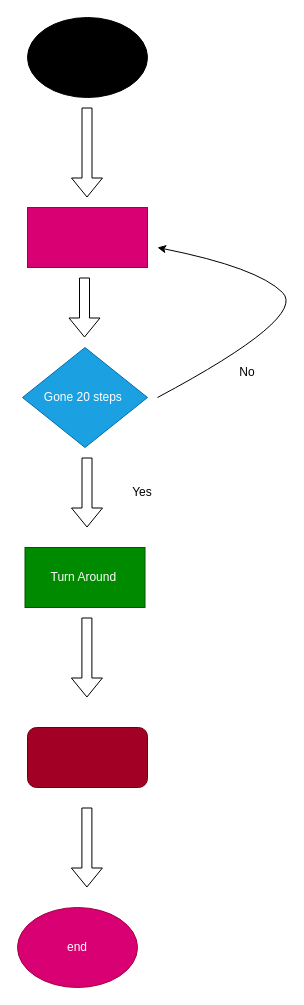
Some shapes in this 304 by 1005 pixel diagram are drawn without their labels. Each missing label, with the centre of its shape:
Shoot: [87,757]
Take a step: [87,237]
